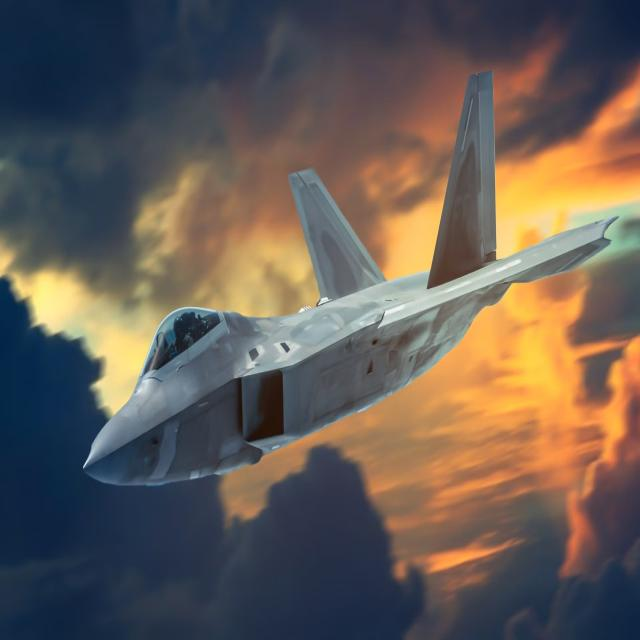F22: (56, 57, 627, 550)
